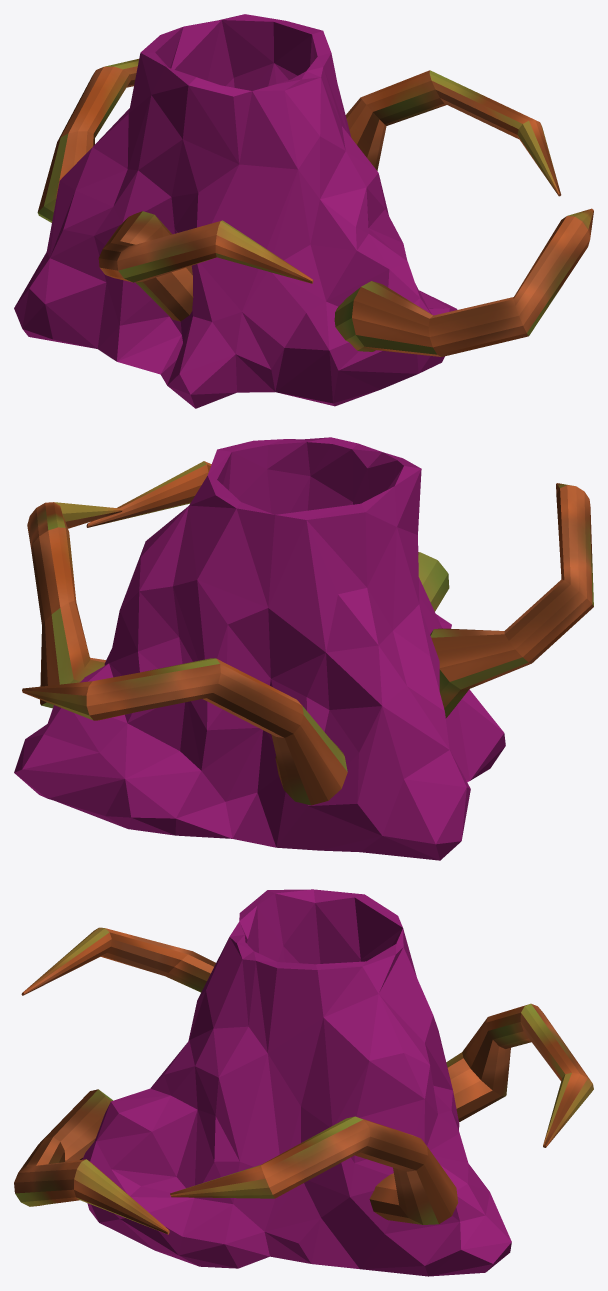
Rendered from incinerator.glb.
The picture shows the model from 3 angles, top to bottom: view 1: azimuth 30°, elevation 25°; view 2: azimuth 150°, elevation 25°; view 3: azimuth 270°, elevation 25°; orthographic projection. The views are drawn at different scales.
Visible parts, largest first — view 1: Cylinder.039, branch.010, branch.012, branch.013, branch.011; view 2: Cylinder.039, branch.011, branch.012, branch.013, branch.010; view 3: Cylinder.039, branch.013, branch.011, branch.010, branch.012.
Part boxes in pixels (x1=…): Cylinder.039: x1=14, y1=14, x2=457, y2=408; branch.010: x1=334, y1=208, x2=593, y2=356; branch.012: x1=98, y1=211, x2=313, y2=321; branch.013: x1=345, y1=70, x2=561, y2=196; branch.011: x1=37, y1=59, x2=138, y2=222; Cylinder.039: x1=14, y1=437, x2=505, y2=860; branch.011: x1=22, y1=658, x2=347, y2=805; branch.012: x1=430, y1=483, x2=593, y2=718; branch.013: x1=27, y1=502, x2=122, y2=708; branch.010: x1=86, y1=461, x2=449, y2=611; Cylinder.039: x1=81, y1=889, x2=511, y2=1276; branch.013: x1=170, y1=1116, x2=458, y2=1224; branch.011: x1=446, y1=1003, x2=593, y2=1147; branch.010: x1=14, y1=1089, x2=169, y2=1234; branch.012: x1=21, y1=927, x2=215, y2=995.
Size of the model in its own units: 3.6 by 2.19 by 3.92.
Materials: 5 (4 with a texture image).
